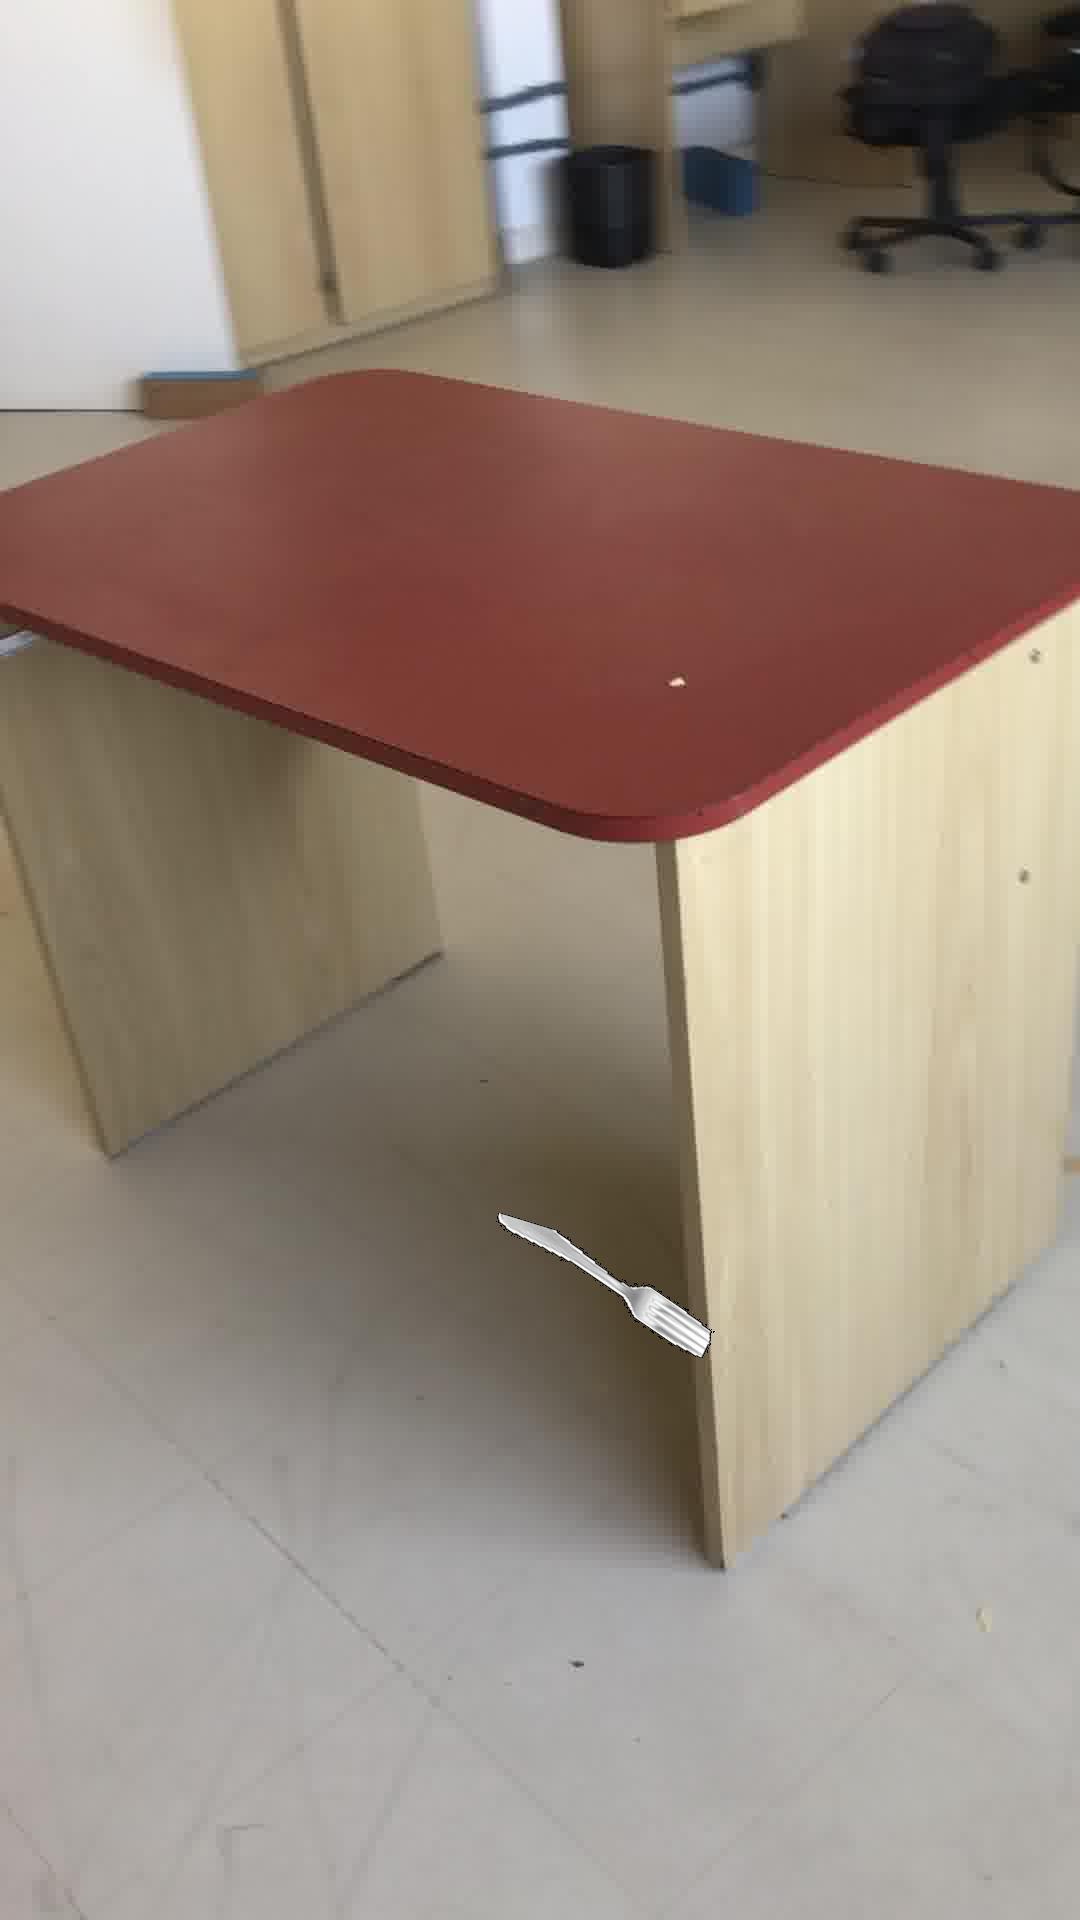fork: (497, 1212, 711, 1357)
